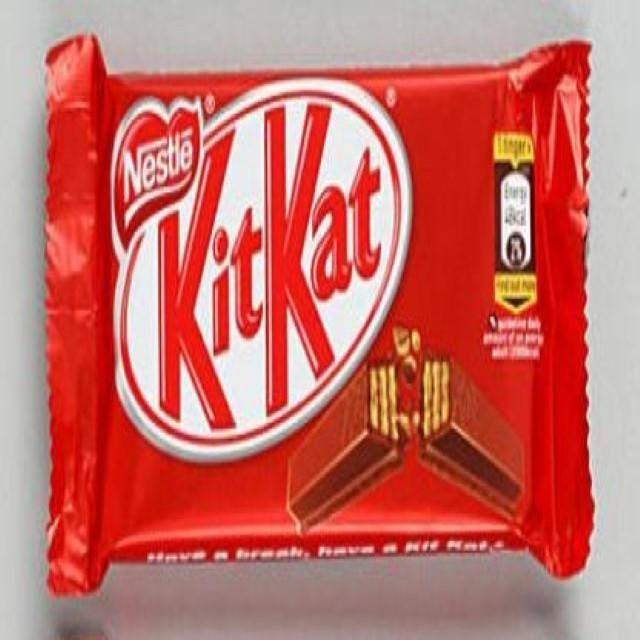kitkat_chocolate: (41, 49, 572, 544)
